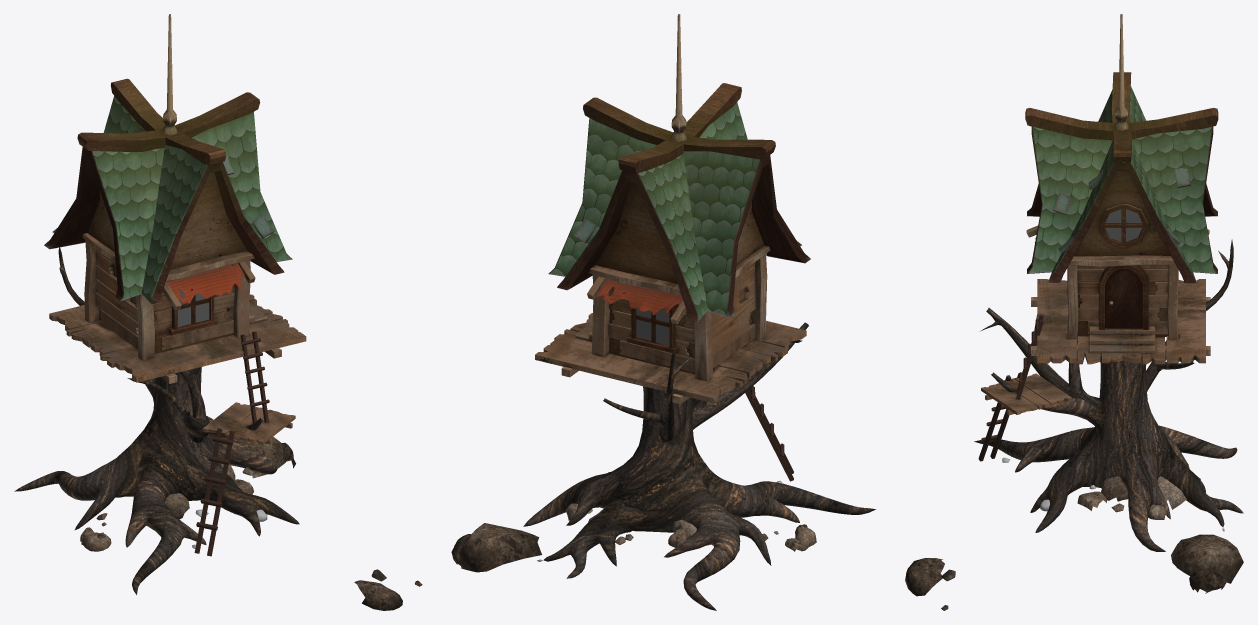
The model's file is house-tree.glb.
The picture shows the model from 3 angles, left to right: view 1: azimuth 30°, elevation 25°; view 2: azimuth 150°, elevation 25°; view 3: azimuth 270°, elevation 25°; orthographic projection. The views are drawn at different scales.
Visible parts, largest first — view 1: TreeHouse; view 2: TreeHouse; view 3: TreeHouse.
Part boxes in pixels (x1,y1,x2,y2): TreeHouse: [14, 14, 422, 610]; TreeHouse: [451, 14, 875, 610]; TreeHouse: [905, 14, 1243, 610].
Size of what is drawn, in the model's own units: 3.32 by 6.28 by 3.65.
Materials: 2 (1 with a texture image).
